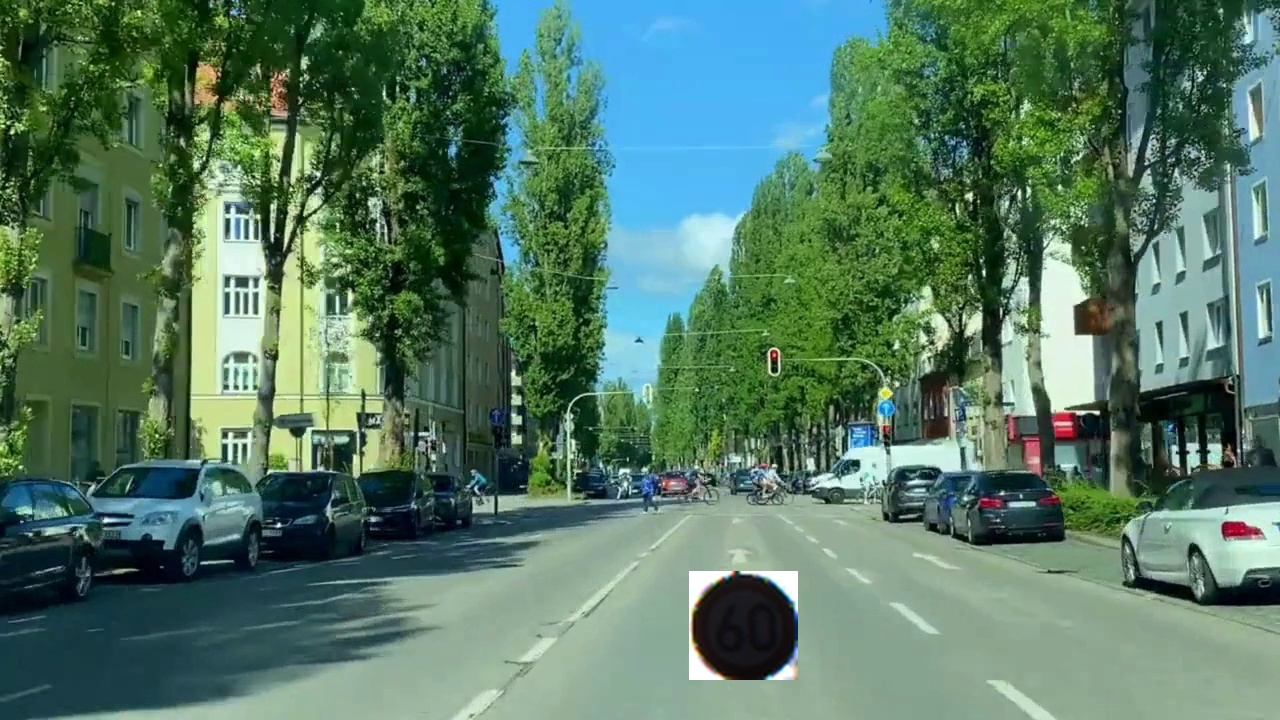Speed 60: (689, 571, 798, 680)
